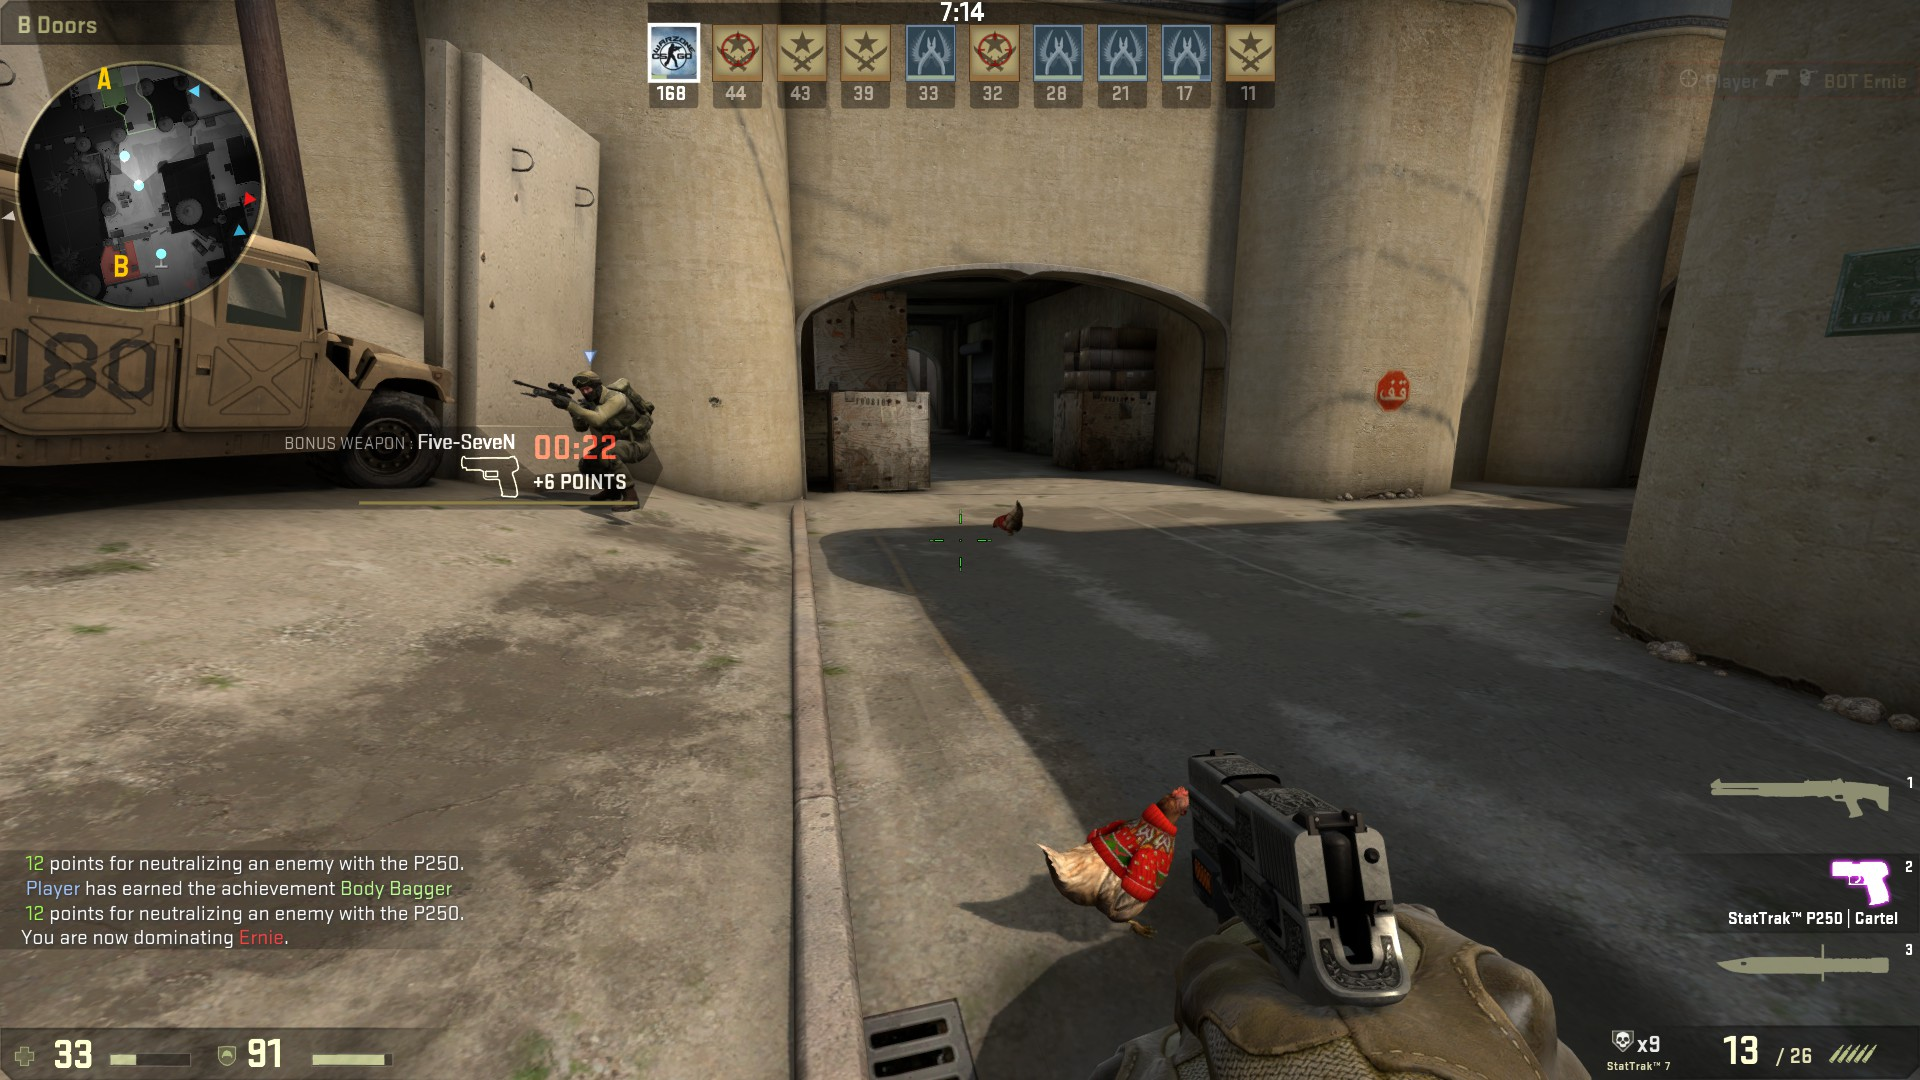c: (555, 371, 662, 517)
ch: (567, 367, 615, 411)
